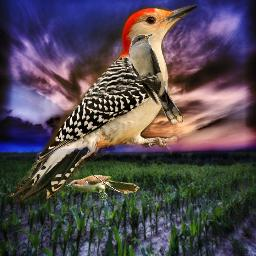Cuckoo: (129, 34, 183, 125), (67, 175, 140, 200)
Woodpecker: (8, 4, 197, 206)
